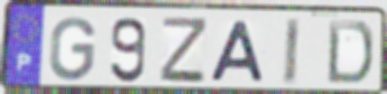9: (109, 16, 148, 84)
A: (208, 19, 268, 84)
D: (325, 18, 376, 87)
G: (47, 15, 98, 83)
I: (281, 16, 303, 88)
Z: (158, 15, 210, 86)
